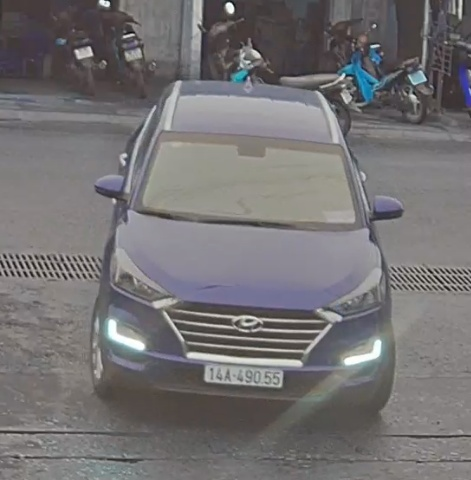vehicle plate: (199, 358, 292, 395)
